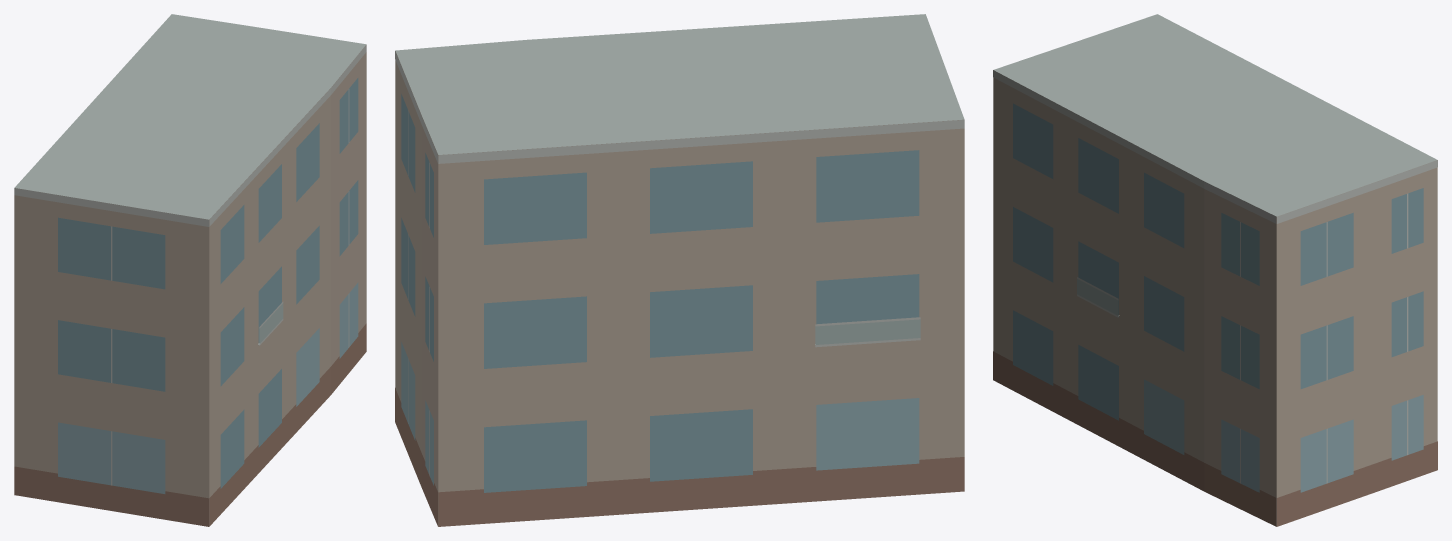
Rendered from survey-upis-32638691.glb.
3 views of the same model, side by side, from view 1: azimuth 30°, elevation 25°; view 2: azimuth 150°, elevation 25°; view 3: azimuth 270°, elevation 25° (orthographic). The views are drawn at different scales.
Visible parts, largest first — view 1: survey-upis-32638691.tmp; view 2: survey-upis-32638691.tmp; view 3: survey-upis-32638691.tmp.
Part boxes in pixels (<box>): survey-upis-32638691.tmp: <box>14,14,366,526</box>; survey-upis-32638691.tmp: <box>395,14,964,526</box>; survey-upis-32638691.tmp: <box>993,14,1437,526</box>.
Size of the model in its own units: 14.3 by 10.2 by 13.26.
